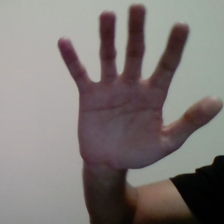left: (50, 1, 224, 172)
